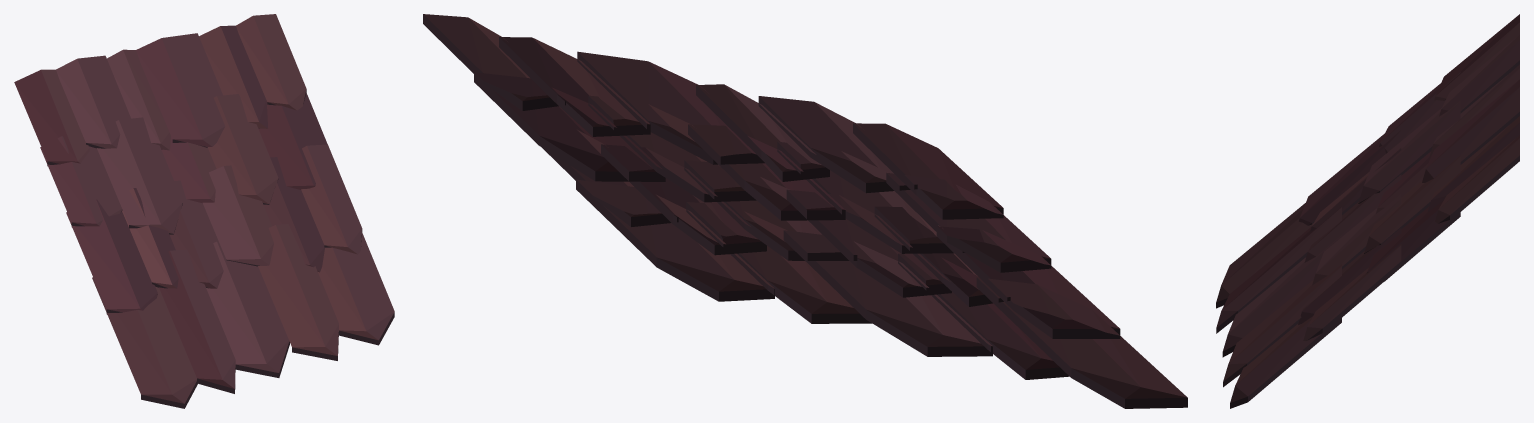
File: split_shakes.glb
3 views of the same model, side by side, from view 1: azimuth 30°, elevation 25°; view 2: azimuth 150°, elevation 25°; view 3: azimuth 270°, elevation 25° (orthographic). The views are drawn at different scales.
Parts seen in each view (by area): view 1: split_shakes; view 2: split_shakes; view 3: split_shakes.
Boxes of the visible parts, box(x1,y1,x2,y2) form: split_shakes: box(14, 14, 394, 408); split_shakes: box(423, 14, 1187, 408); split_shakes: box(1216, 14, 1519, 408).
Size of the model in its own units: 2.04 by 1.84 by 1.79.
